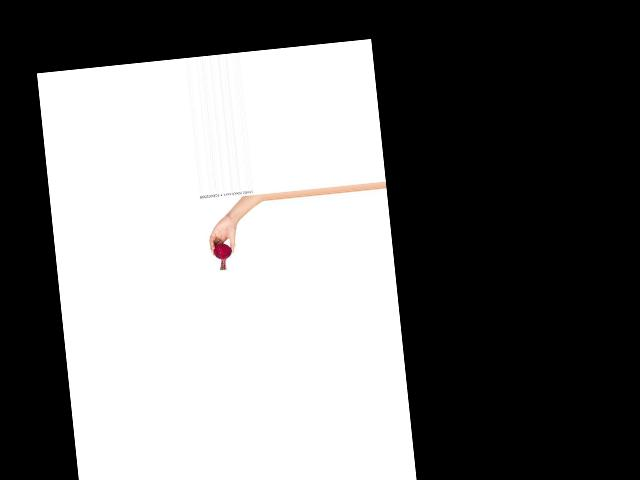beet: (212, 243, 233, 271)
